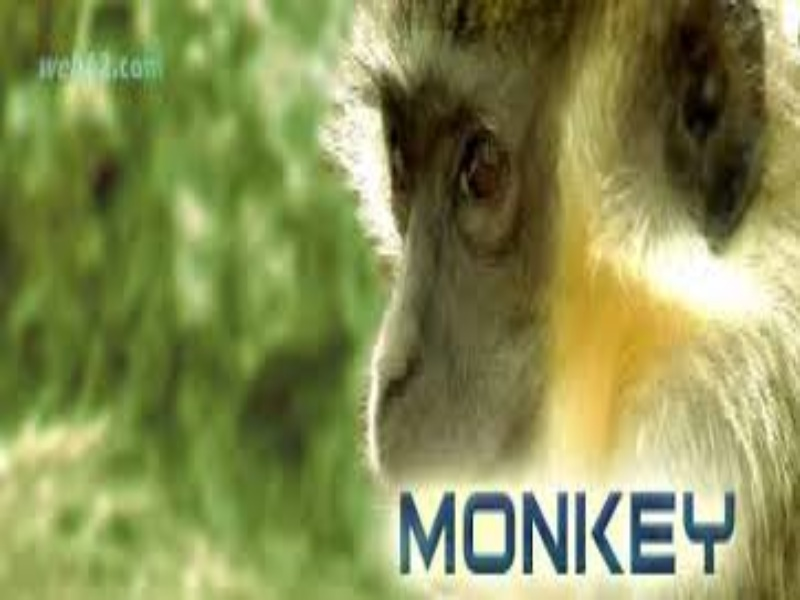monkey: (313, 4, 784, 592)
